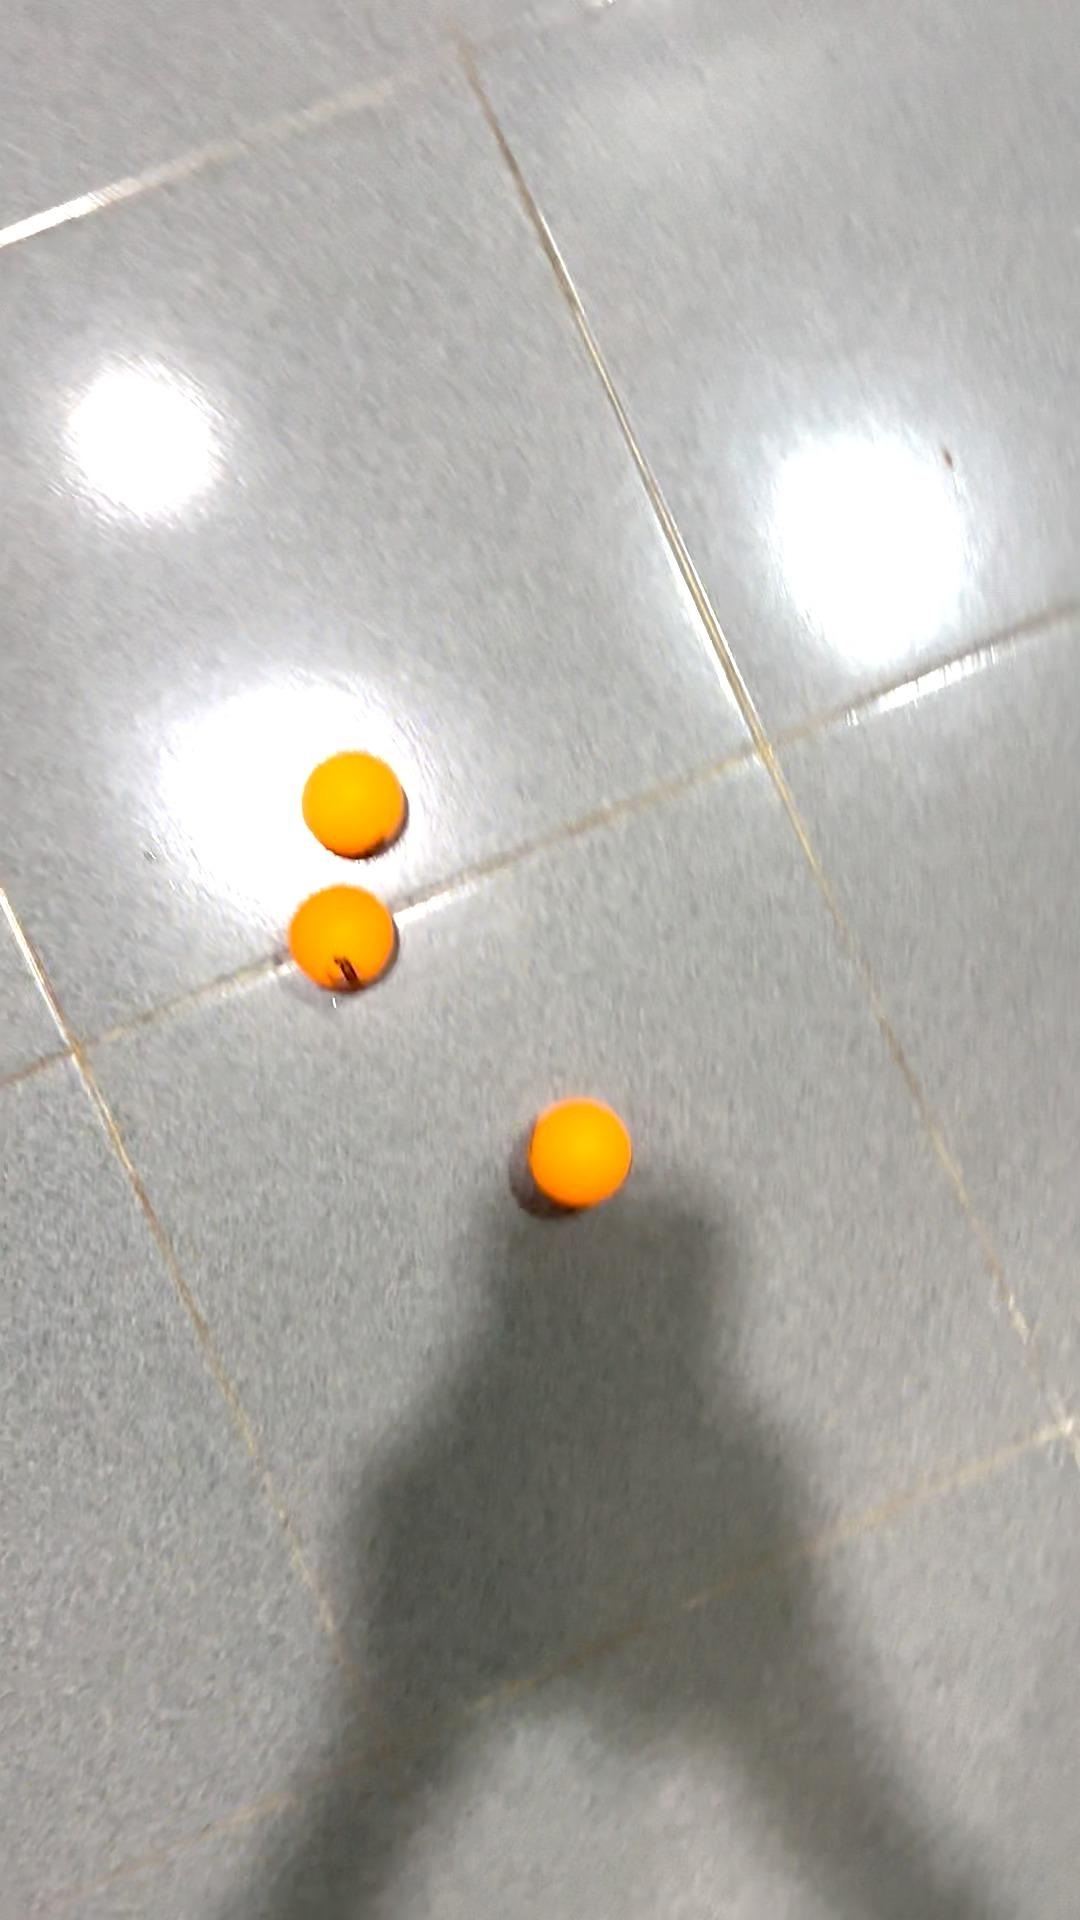oball: (521, 1095, 642, 1217), (281, 885, 404, 1004), (301, 752, 419, 864)
